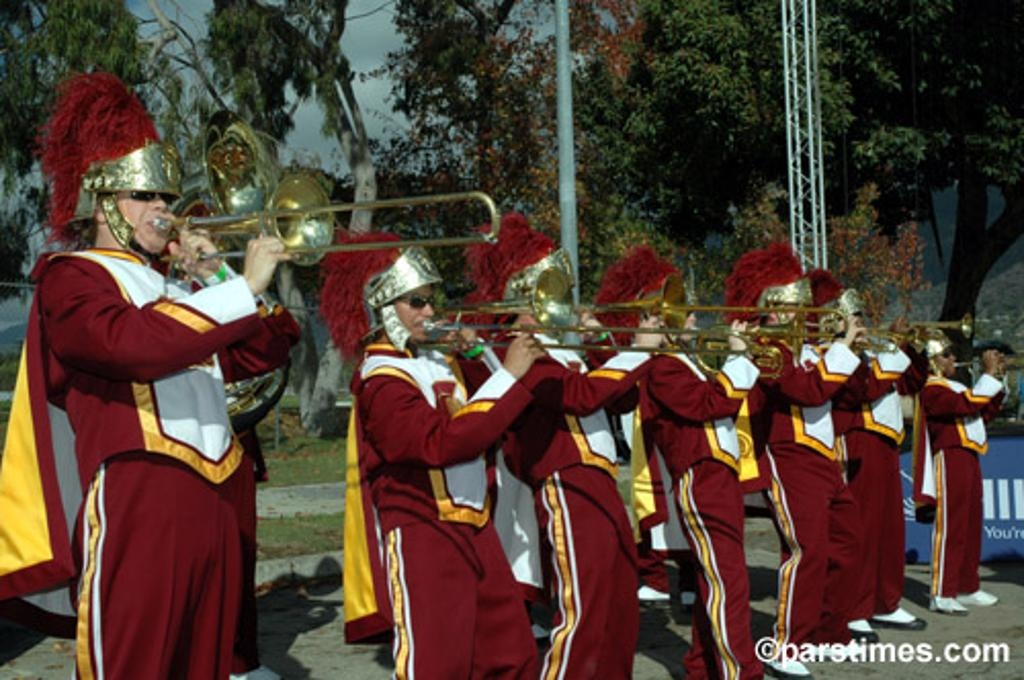human_face: (110, 176, 178, 254), (392, 282, 434, 340), (666, 301, 694, 341), (840, 310, 866, 344), (936, 347, 956, 375)
